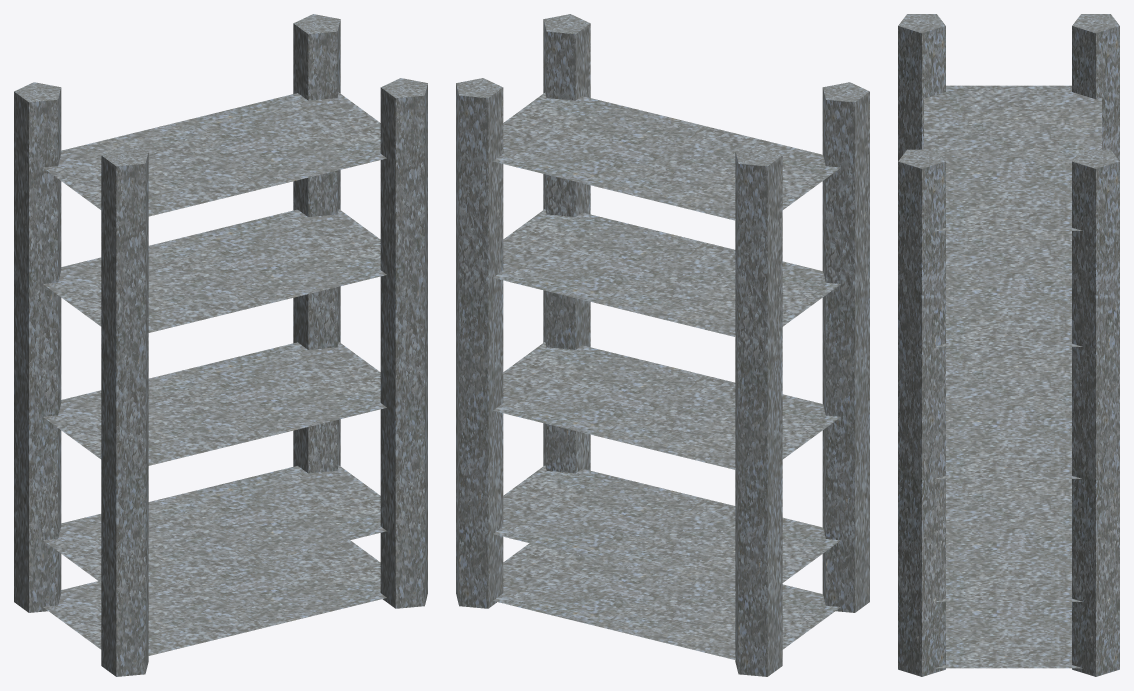
File: rek.obj
3 views of the same model, side by side, from view 1: azimuth 30°, elevation 25°; view 2: azimuth 150°, elevation 25°; view 3: azimuth 270°, elevation 25° (orthographic).
Visible parts, largest first — view 1: group6 pasted__pCylinder3, group6 pasted__pCylinder4, group6 pasted__pCylinder2, group6 pasted__pPlane4, group6 pasted__pPlane2, group6 pasted__pPlane3, group6 pasted__pPlane1, group6 pPlane1, pasted__pCylinder1 group6; view 2: group6 pasted__pCylinder2, pasted__pCylinder1 group6, group6 pasted__pCylinder3, group6 pasted__pPlane4, group6 pasted__pPlane2, group6 pasted__pPlane3, group6 pasted__pPlane1, group6 pPlane1, group6 pasted__pCylinder4; view 3: pasted__pCylinder1 group6, group6 pasted__pCylinder4, group6 pasted__pPlane4, group6 pasted__pPlane2, group6 pasted__pPlane1, group6 pasted__pPlane3, group6 pPlane1, group6 pasted__pCylinder3, group6 pasted__pCylinder2.
Part boxes in pixels (x1=…): group6 pasted__pCylinder3: x1=101, y1=146, x2=148, y2=676; group6 pasted__pCylinder4: x1=380, y1=78, x2=427, y2=608; group6 pasted__pCylinder2: x1=14, y1=82, x2=61, y2=612; group6 pasted__pPlane4: x1=43, y1=92, x2=386, y2=216; group6 pasted__pPlane2: x1=43, y1=342, x2=386, y2=465; group6 pasted__pPlane3: x1=43, y1=209, x2=386, y2=332; group6 pasted__pPlane1: x1=43, y1=465, x2=386, y2=589; group6 pPlane1: x1=43, y1=540, x2=386, y2=655; pasted__pCylinder1 group6: x1=293, y1=14, x2=340, y2=473; group6 pasted__pCylinder2: x1=735, y1=146, x2=782, y2=676; pasted__pCylinder1 group6: x1=456, y1=78, x2=503, y2=608; group6 pasted__pCylinder3: x1=822, y1=82, x2=869, y2=612; group6 pasted__pPlane4: x1=493, y1=92, x2=840, y2=220; group6 pasted__pPlane2: x1=493, y1=342, x2=840, y2=469; group6 pasted__pPlane3: x1=493, y1=209, x2=840, y2=337; group6 pasted__pPlane1: x1=493, y1=465, x2=840, y2=593; group6 pPlane1: x1=493, y1=543, x2=840, y2=659; group6 pasted__pCylinder4: x1=543, y1=14, x2=590, y2=473; pasted__pCylinder1 group6: x1=1072, y1=149, x2=1119, y2=676; group6 pasted__pCylinder4: x1=898, y1=149, x2=945, y2=676; group6 pasted__pPlane4: x1=924, y1=85, x2=1101, y2=230; group6 pasted__pPlane2: x1=936, y1=347, x2=1081, y2=478; group6 pasted__pPlane1: x1=935, y1=479, x2=1082, y2=601; group6 pasted__pPlane3: x1=935, y1=231, x2=1082, y2=346; group6 pPlane1: x1=935, y1=602, x2=1082, y2=668; group6 pasted__pCylinder3: x1=898, y1=14, x2=945, y2=160; group6 pasted__pCylinder2: x1=1072, y1=14, x2=1119, y2=160.
Bounding box in the file's own units: 9.25 × 14.14 × 5.6.
1 material, 1 textured.
